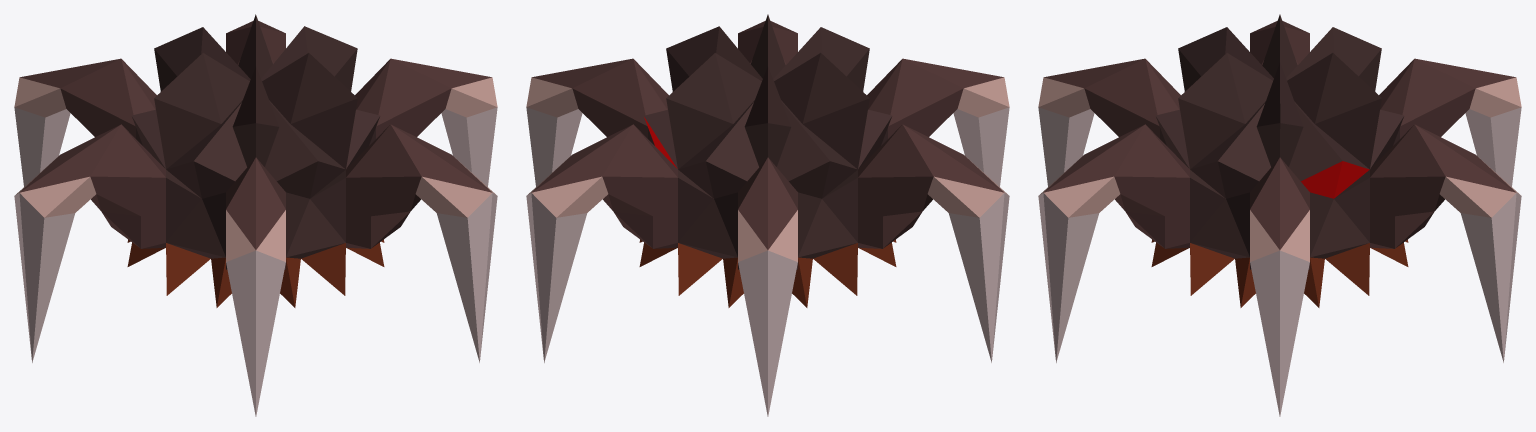
The picture shows the model from 3 angles, left to right: view 1: azimuth 30°, elevation 25°; view 2: azimuth 150°, elevation 25°; view 3: azimuth 270°, elevation 25°; orthographic projection.
Visible parts, largest first — view 1: Model; view 2: Model; view 3: Model.
Part boxes in pixels (bbox=[...]): Model: bbox=[14, 14, 497, 416]; Model: bbox=[526, 14, 1009, 416]; Model: bbox=[1038, 14, 1521, 416].
Size of the model in its own units: 0.2862 by 0.1565 by 0.2532.
Materials: 1 (1 with a texture image).
